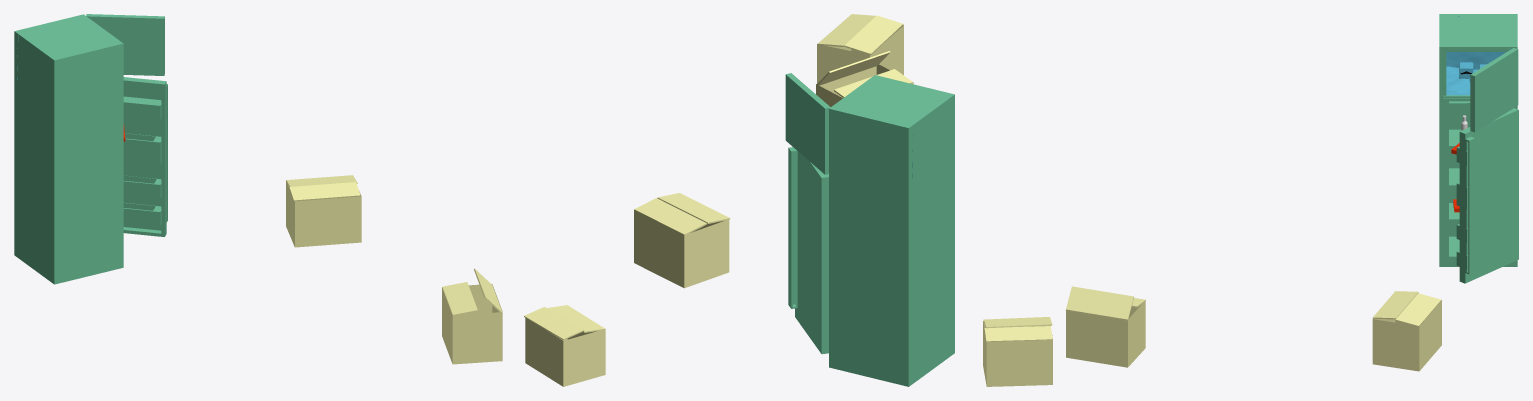
The model's file is lodowka1.glb.
The picture shows the model from 3 angles, left to right: view 1: azimuth 30°, elevation 25°; view 2: azimuth 150°, elevation 25°; view 3: azimuth 270°, elevation 25°; orthographic projection. The views are drawn at different scales.
Parts seen in each view (by area): view 1: Cube.039, Cube.038, Cube.014, Cube, Cube.020, Plane.032, Cube.022, Cube.021; view 2: Cube.039, Cube.014, Cube.038, Plane.032, Cube, Cube.020, Cube.022, Cube.021; view 3: Cube.038, Cube.039, Cube, Cube.014, Cube.020, Plane.032, Cube.021, Plane.041, Cube.022, Plane.034.
Part boxes in pixels (x1,y1,x2,y2): Cube.039: (14,14,123,284); Cube.038: (123,77,167,236); Cube.014: (286,175,361,247); Cube: (442,268,502,364); Cube.020: (525,318,605,386); Plane.032: (86,14,164,75); Cube.022: (524,307,583,340); Cube.021: (547,305,605,332); Cube.039: (829,75,954,386); Cube.014: (634,193,730,288); Cube.038: (788,147,828,354); Plane.032: (785,73,830,174); Cube: (816,51,913,106); Cube.020: (817,17,903,83); Cube.022: (844,15,903,55); Cube.021: (818,14,875,46); Cube.038: (1456,108,1518,283); Cube.039: (1439,14,1517,266); Cube: (1065,286,1145,367); Cube.014: (1372,291,1441,371); Cube.020: (983,320,1052,386); Plane.032: (1470,48,1518,132); Cube.021: (984,326,1052,341); Plane.041: (1446,16,1509,69); Cube.022: (984,317,1052,328); Plane.034: (1442,66,1477,95).
Bounding box in the file's own units: 2.93 × 1.96 × 4.33.
